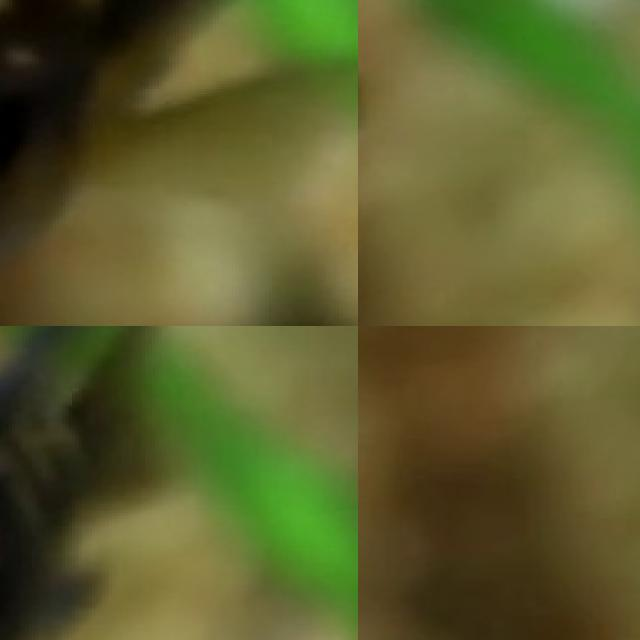fish: (0, 0, 358, 326), (0, 326, 268, 640)
